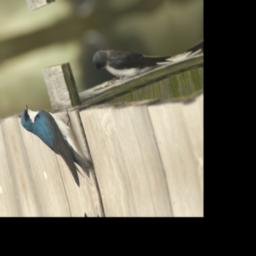Swallow: (17, 91, 94, 201)
